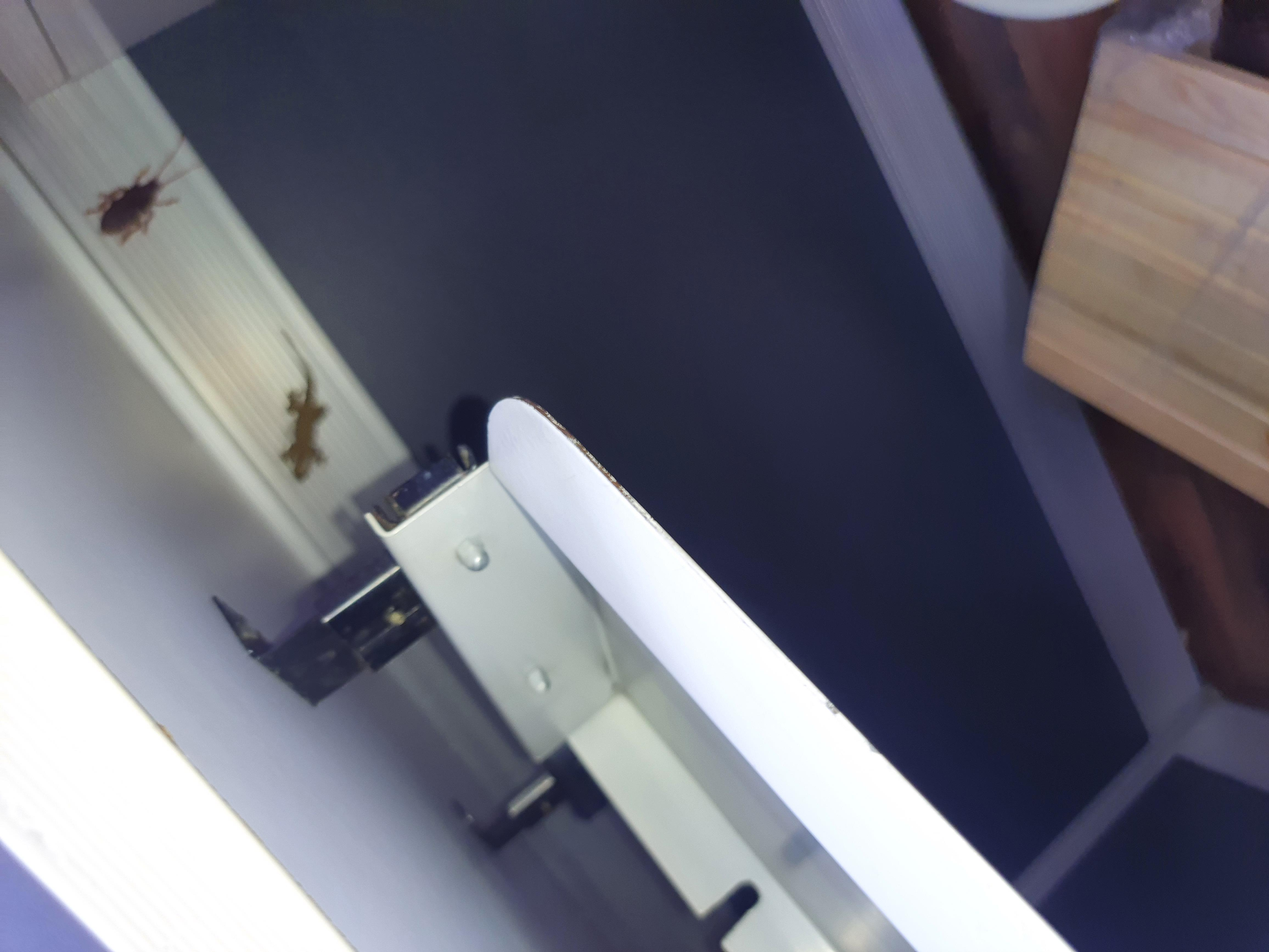lizard: (612, 206, 805, 252)
